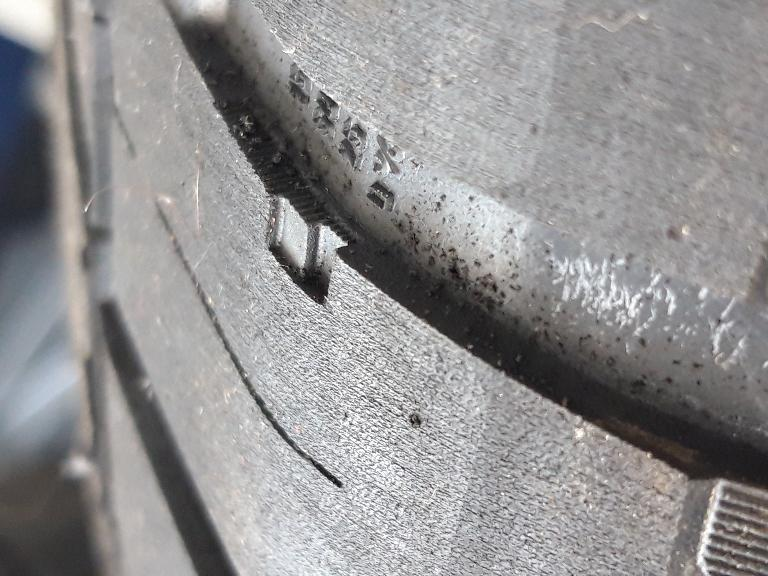temoin:25: (255, 182, 384, 316)
